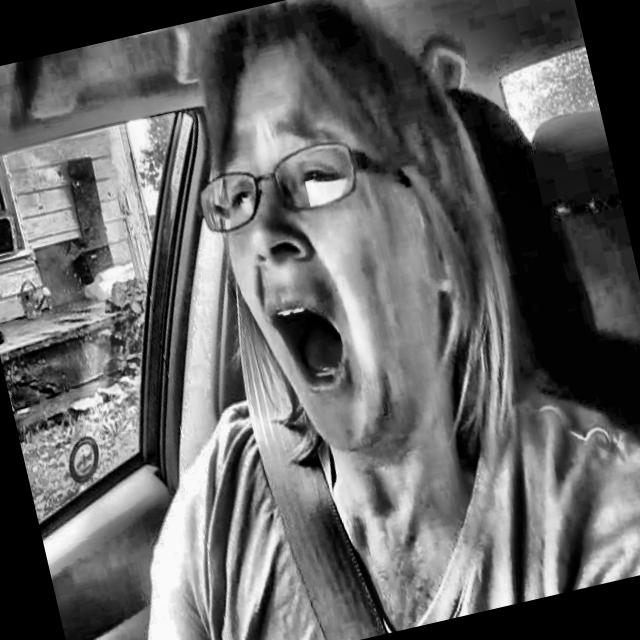open_mouth: (256, 290, 363, 408)
